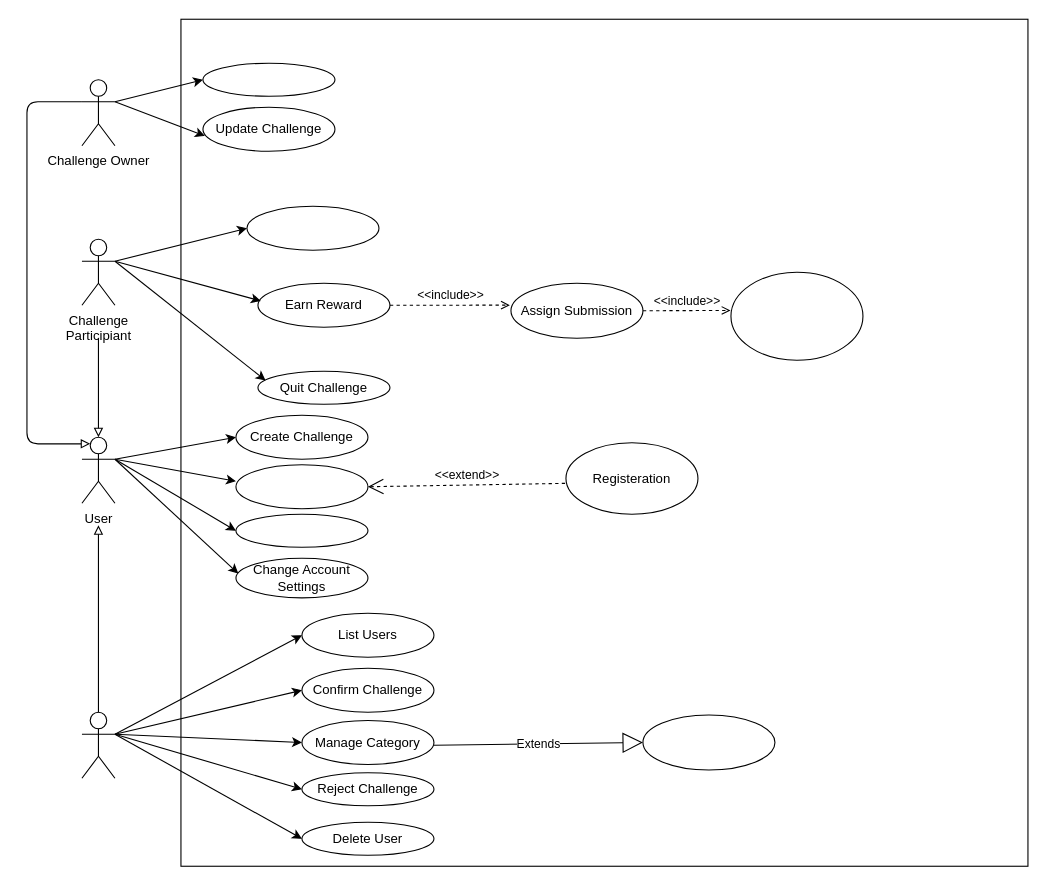
The diagram is 1047 pixels wide and 886 high, and some of its shapes have lost their labels. The centre of each missing label's shape, as x and y in pixels:
"Admin" belongs at (98,744).
"Comment Challenge" belongs at (312,227).
"CRUD" belongs at (708,742).
"Delete Challenge" belongs at (268,79).
"Login" belongs at (301,486).
"Search Challenge" belongs at (301,530).
"Vote Submission" belongs at (796,315).
